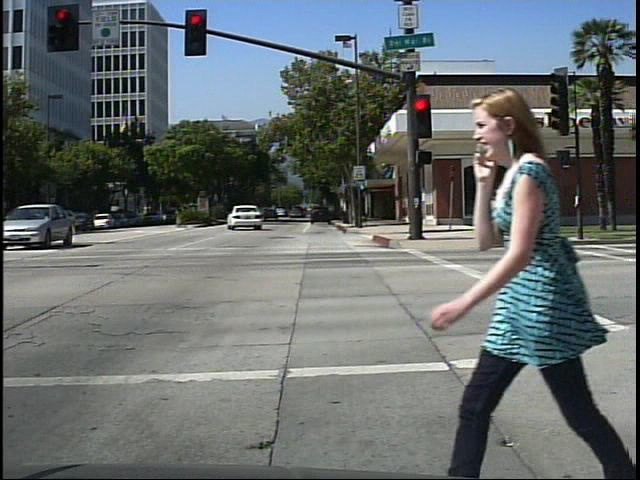person: (444, 77, 630, 480)
